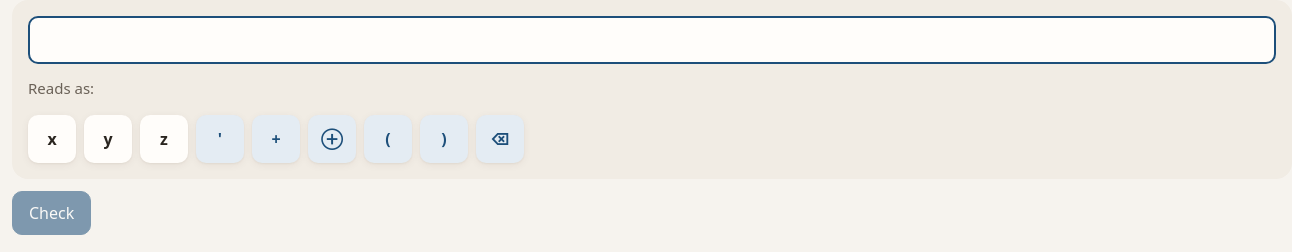
ExpressionEntry › reads in the question's own variable case and never asks the phone for capitals
The width and height of the screenshot is (1292, 252).
In the field: [652, 40] box [28,16,1276,64], type "X'Z + XY'"
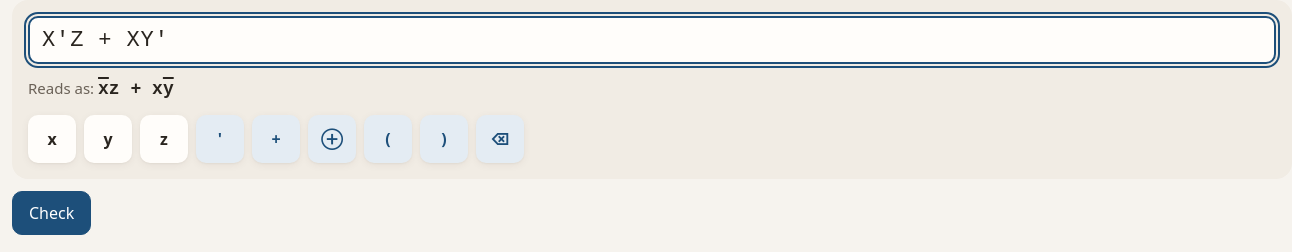
Expected: the text "Reads as: xz + xy" is shown, [28,78,174,99]
